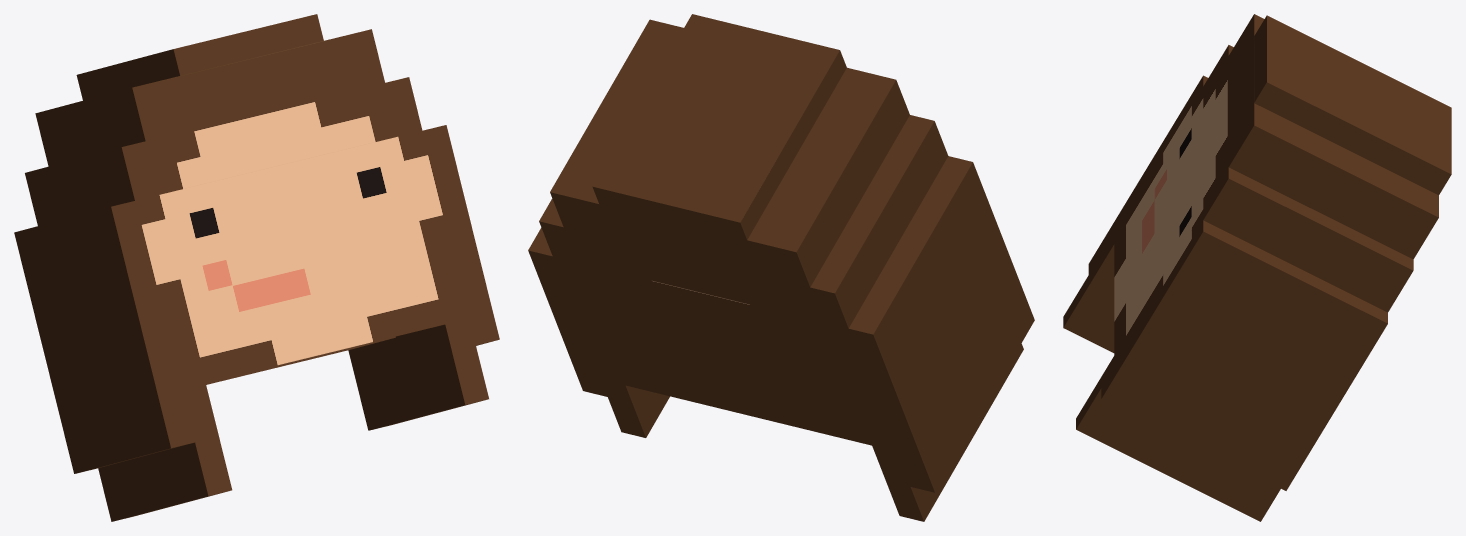
Rendered from head_3.glb.
The picture shows the model from 3 angles, left to right: view 1: azimuth 30°, elevation 25°; view 2: azimuth 150°, elevation 25°; view 3: azimuth 270°, elevation 25°; orthographic projection. The views are drawn at different scales.
Parts seen in each view (by area): view 1: head; view 2: head; view 3: head.
Part boxes in pixels (x1,y1,x2,y2): head: [14, 14, 499, 521]; head: [528, 14, 1034, 521]; head: [1063, 14, 1451, 521].
Size of the model in its own units: 0.0904 by 0.1154 by 0.095.
Materials: 1 (1 with a texture image).
